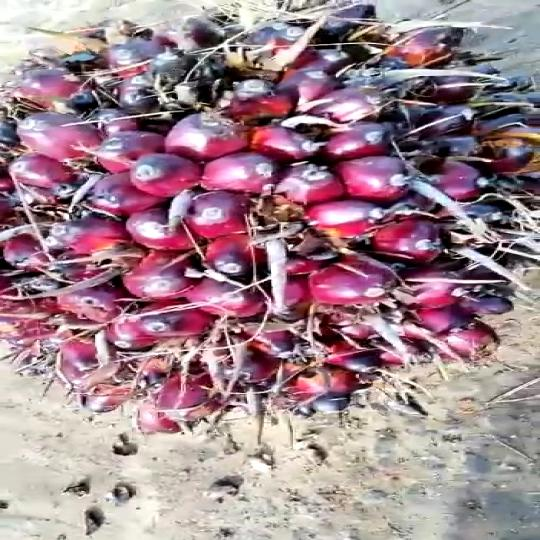masak: (0, 0, 540, 476)
